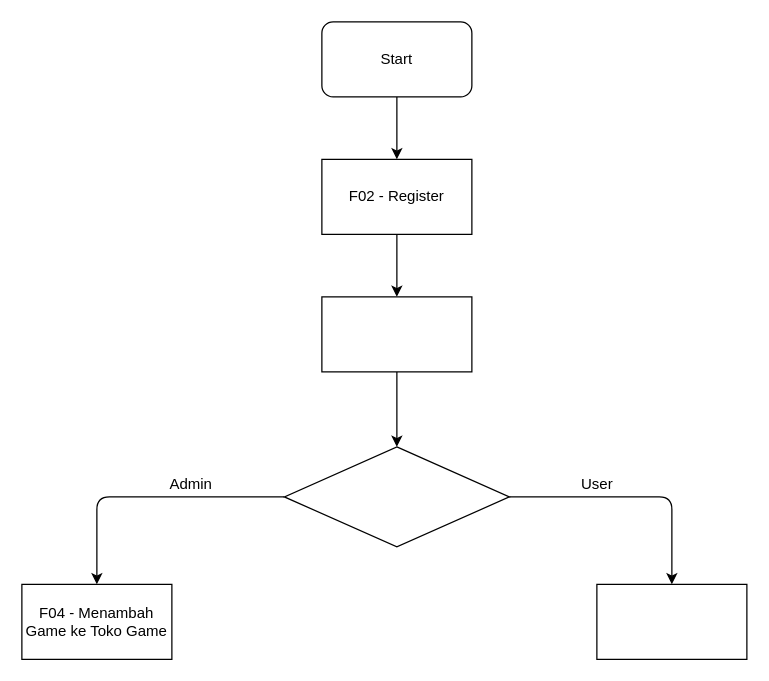
The diagram is 769 pixels wide and 681 high, and some of its shapes have lost their labels. The centre of each missing label's shape, as x and y in pixels:
F03 - Log in: [396,334]
Siapa Penggunanya?: [396,496]
